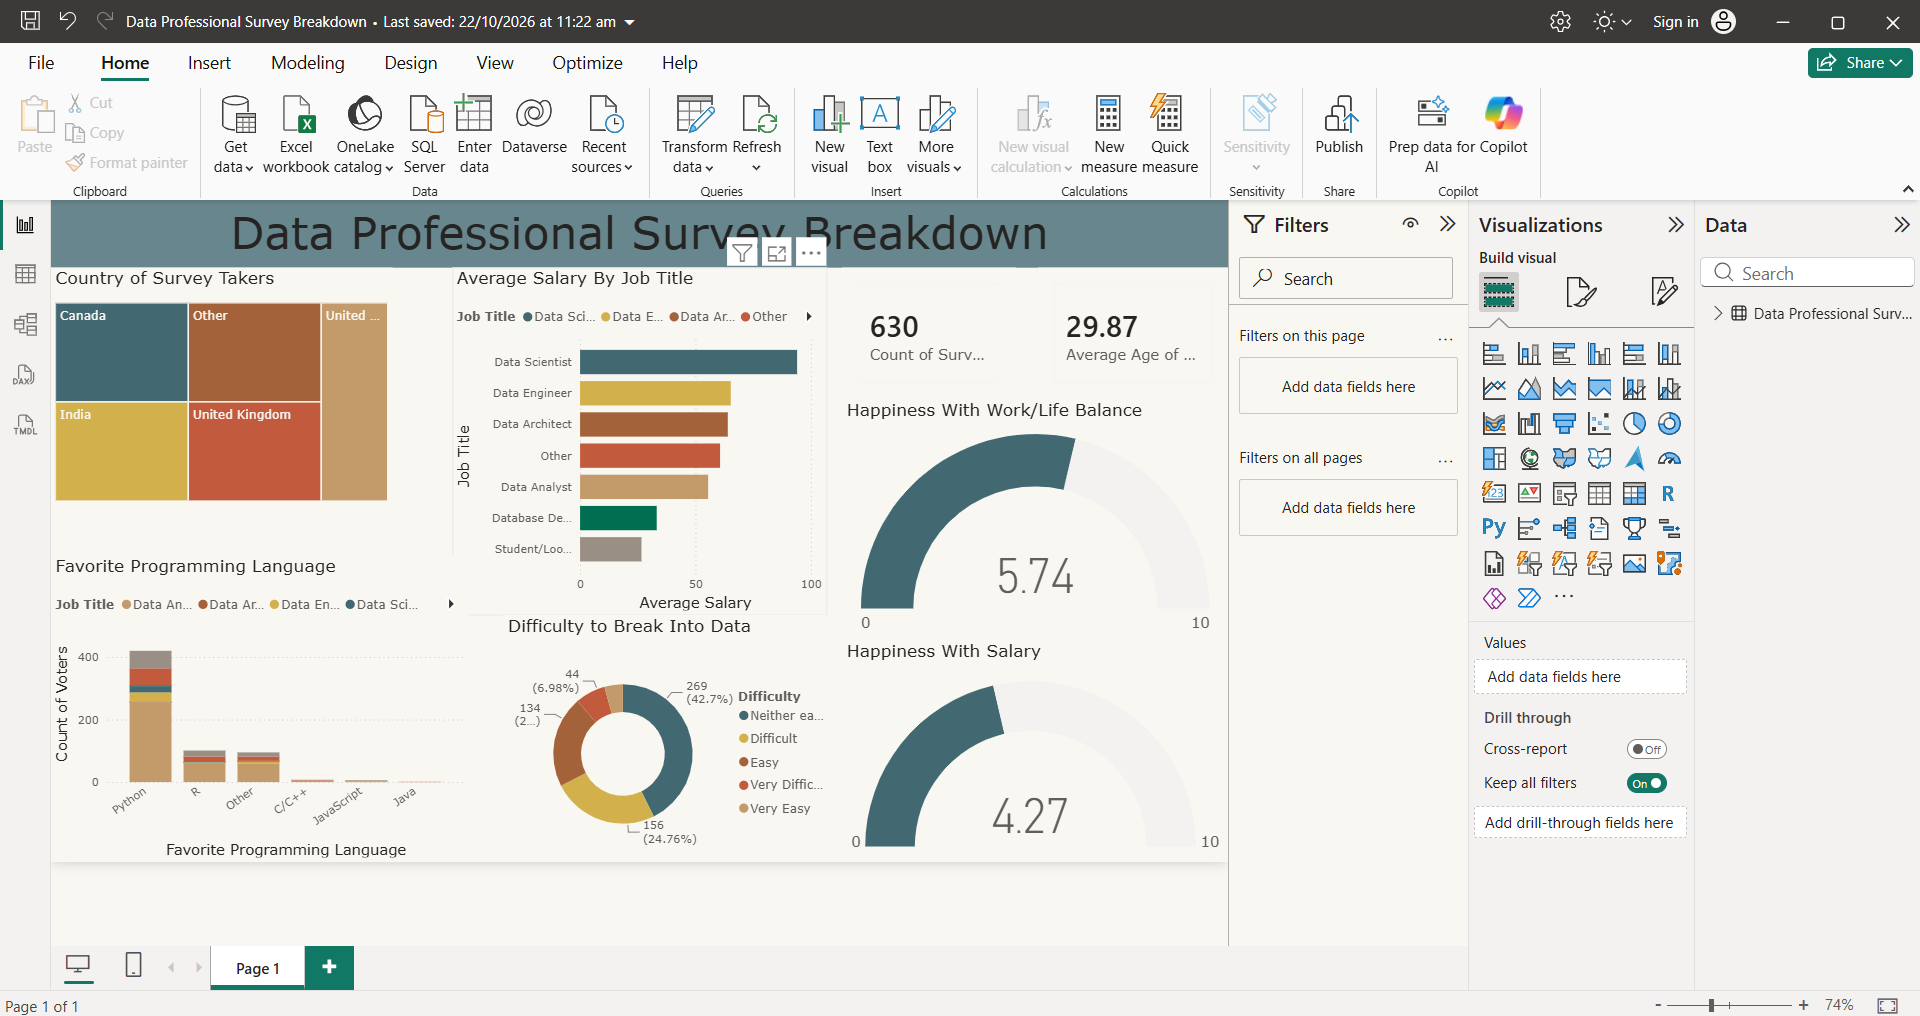

This screenshot's page, from the dashboard's own definition file:
{"tool":"powerbi","page":{"name":"Page 1","canvas":[1280,720],"ordinal":0},"visuals":[{"type":"textbox","box":[0,0,1280,73.3],"z":0},{"type":"cardVisual","fields":{"Data":["Count(Data Professional Survey.Unique ID)"]},"box":[859.8,73.3,188.9,143.3],"z":1000},{"type":"cardVisual","fields":{"Data":["Avg(Data Professional Survey.Q10 - Current Age)"]},"box":[1073.2,73.3,206.8,143.3],"z":2000},{"type":"barChart","title":"Average Salary By Job Title","fields":{"Category":["Data Professional Survey.Q1 - Which Title Best Fits your Current Role?.1"],"Y":["Avg(Data Professional Survey.Average Salary)"],"Series":["Data Professional Survey.Q1 - Which Title Best Fits your Current Role?.1"]},"box":[436.4,73.3,407.1,377.8],"z":3000},{"type":"columnChart","title":"Favorite Programming Language","fields":{"Category":["Data Professional Survey.Q5 - Favorite Programming Language.1"],"Y":["CountNonNull(Data Professional Survey.Unique ID)"],"Series":["Data Professional Survey.Q1 - Which Title Best Fits your Current Role?.1"]},"box":[0,386,454.4,333.8],"z":4000},{"type":"treemap","title":"Country of Survey Takers","fields":{"Group":["Data Professional Survey.Q11 - Which Country do you live in?.1"],"Values":["Count(Data Professional Survey.Q11 - Which Country do you live in?.1)"]},"box":[0,73.3,371.3,258.9],"z":5000},{"type":"gauge","title":"Happiness With Work/Life Balance","fields":{"Y":["Avg(Data Professional Survey.Q6 - How Happy are you in your Current Position with the following? (Work/Life Balance))"],"MinValue":["Min(Data Professional Survey.Q6 - How Happy are you in your Current Position with the following? (Work/Life Balance))1"],"MaxValue":["Max(Data Professional Survey.Q6 - How Happy are you in your Current Position with the following? (Work/Life Balance))2"]},"box":[859.8,216.6,420.2,262.2],"z":6000},{"type":"gauge","title":"Happiness With Salary","fields":{"Y":["Avg(Data Professional Survey.Q6 - How Happy are you in your Current Position with the following? (Salary))"],"MinValue":["Min(Data Professional Survey.Q6 - How Happy are you in your Current Position with the following? (Salary))"],"MaxValue":["Max(Data Professional Survey.Q6 - How Happy are you in your Current Position with the following? (Salary))"]},"box":[859.8,478.8,420.2,241],"z":7000},{"type":"donutChart","title":"Difficulty to Break Into Data","fields":{"Category":["Data Professional Survey.Q7 - How difficult was it for you to break into Data?"],"Y":["CountNonNull(Data Professional Survey.Q7 - How difficult was it for you to break into Data?)"]},"box":[491.8,451.1,368,268.7],"z":8000}]}

Visuals, with their boxes on the page's 1280x720 design canvas (x1, y1, x2, y2). These are canvas units, not pixel positions in the 1920x1016 screenshot, which may show the page scaled, cropped or inside an application window:
textbox: {"left": 0, "top": 0, "right": 1280, "bottom": 73}
cardVisual - Count(Data Professional Survey.Unique ID): {"left": 860, "top": 73, "right": 1049, "bottom": 217}
cardVisual - Avg(Data Professional Survey.Q10 - Current Age): {"left": 1073, "top": 73, "right": 1280, "bottom": 217}
"Average Salary By Job Title" barChart: {"left": 436, "top": 73, "right": 844, "bottom": 451}
"Favorite Programming Language" columnChart: {"left": 0, "top": 386, "right": 454, "bottom": 720}
"Country of Survey Takers" treemap: {"left": 0, "top": 73, "right": 371, "bottom": 332}
"Happiness With Work/Life Balance" gauge: {"left": 860, "top": 217, "right": 1280, "bottom": 479}
"Happiness With Salary" gauge: {"left": 860, "top": 479, "right": 1280, "bottom": 720}
"Difficulty to Break Into Data" donutChart: {"left": 492, "top": 451, "right": 860, "bottom": 720}
